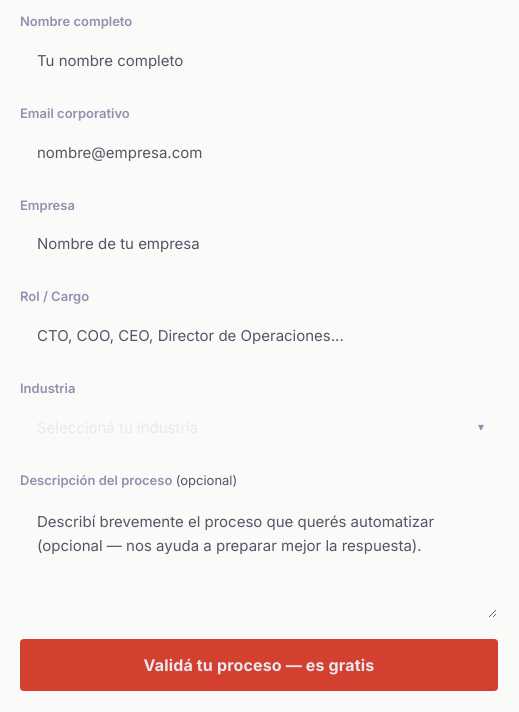
Scenario: IaOperativaForm › shows validation errors on empty submit
The width and height of the screenshot is (519, 712).
Click the button "Validá tu proceso — es gratis": [259, 665] box 20,639 -> 498,691
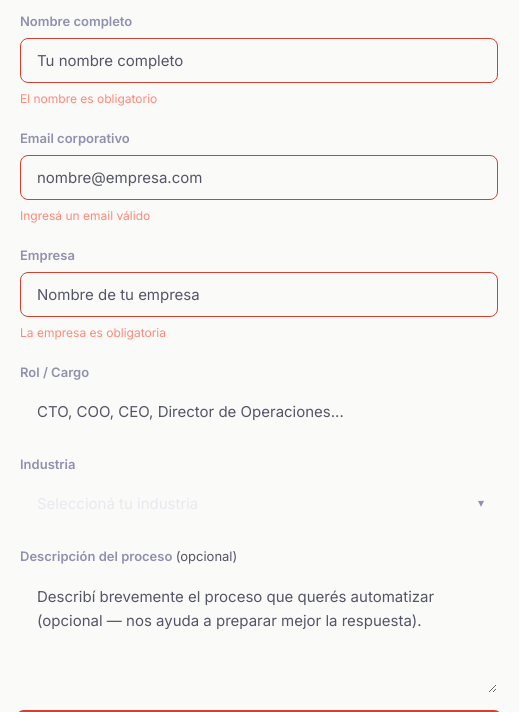
Now the text "El nombre es obligatorio" is shown, box 20,91 -> 157,106
Now the text "Ingresá un email válido" is shown, box 20,208 -> 150,223
Now the text "La empresa es obligatoria" is shown, box 20,325 -> 166,340
